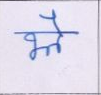au_matra: (42, 10, 66, 51)
